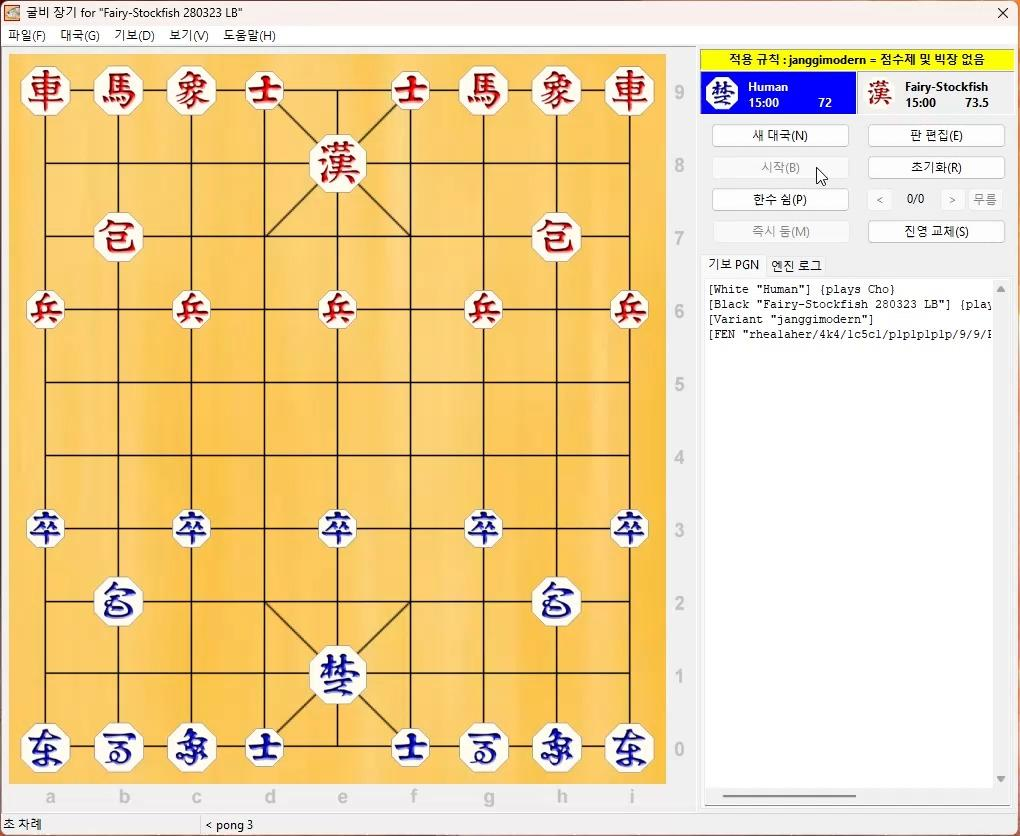cha_green: (606, 725, 654, 773), (23, 725, 69, 772)
cha_red: (604, 69, 654, 115), (22, 70, 71, 114)
jol_green: (320, 512, 360, 547), (171, 512, 211, 547), (609, 511, 649, 546), (27, 509, 67, 543), (466, 509, 504, 544)
jol_red: (171, 293, 212, 327), (25, 291, 65, 325), (319, 292, 359, 326), (608, 292, 649, 325), (465, 291, 505, 324)
ma_green: (94, 724, 145, 770), (458, 724, 509, 769)
ma_red: (455, 69, 511, 113), (95, 69, 144, 114)
po_green: (533, 579, 583, 625), (94, 579, 143, 623)
po_red: (534, 214, 583, 259), (94, 215, 142, 259)
sa_green: (392, 730, 434, 764), (243, 730, 283, 764)
sa_red: (247, 74, 287, 108), (394, 75, 434, 108)
sang_green: (531, 724, 583, 772), (166, 725, 217, 772)
sang_red: (165, 66, 219, 115), (534, 69, 584, 115)
wang_green: (311, 647, 369, 701)
wang_red: (311, 140, 367, 191)
